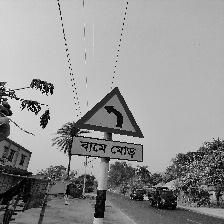Left-Turn: (69, 88, 145, 163)
